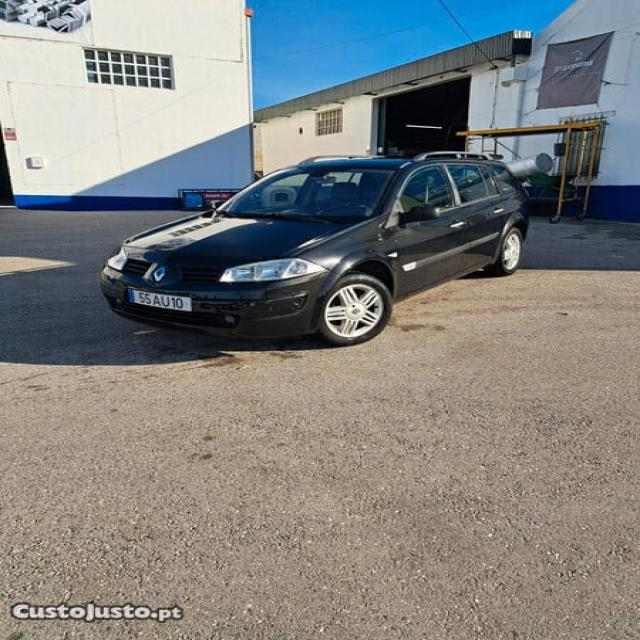portuguese-license-plates: (125, 287, 202, 316)
